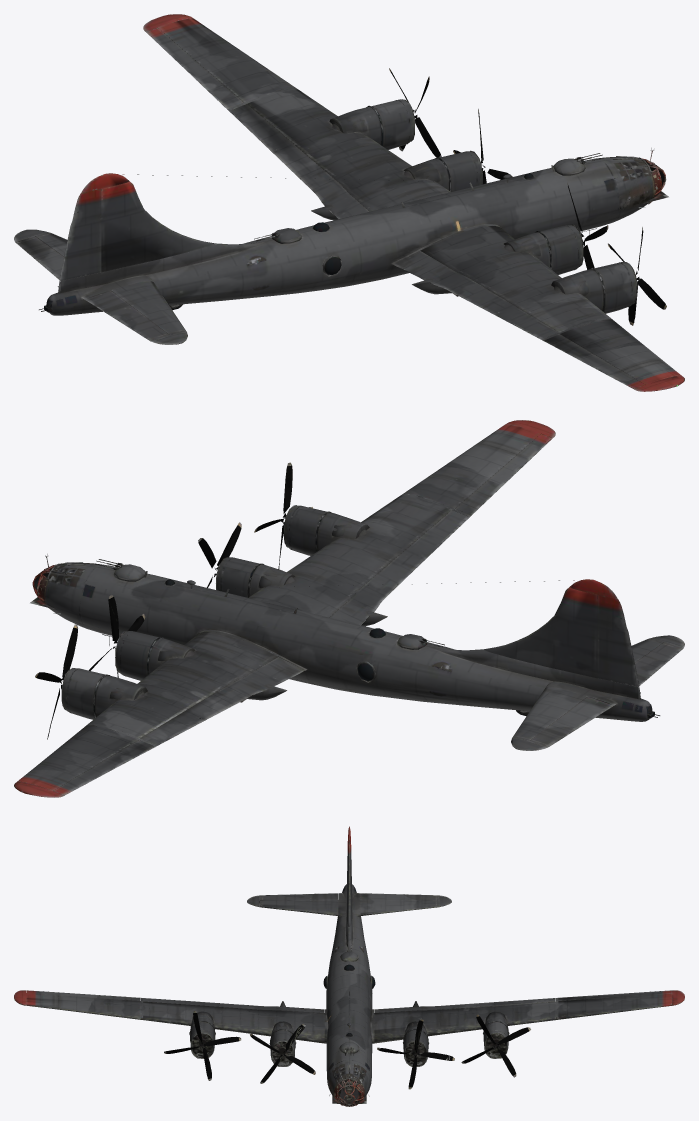
Rendered from fh_battle_e_bomber.glb.
3 views of the same model, one above another, from view 1: azimuth 30°, elevation 25°; view 2: azimuth 150°, elevation 25°; view 3: azimuth 270°, elevation 25° (orthographic). The views are drawn at different scales.
Visible parts, largest first — view 1: bomber, prop_4; view 2: bomber, prop_1, prop_3; view 3: bomber, prop_1, prop_4, prop_3, prop_2.
Part boxes in pixels (x1,y1,x2,y2): bomber: [14, 14, 684, 391]; prop_4: [609, 230, 665, 322]; bomber: [14, 420, 684, 797]; prop_1: [36, 627, 77, 736]; prop_3: [198, 525, 241, 587]; bomber: [14, 826, 684, 1106]; prop_1: [463, 1016, 528, 1075]; prop_4: [166, 1013, 238, 1079]; prop_3: [251, 1024, 314, 1082]; prop_2: [379, 1020, 452, 1087].
Bounding box in the file's own units: 1 × 0.286 × 1.41.
2 materials, 2 textured.
